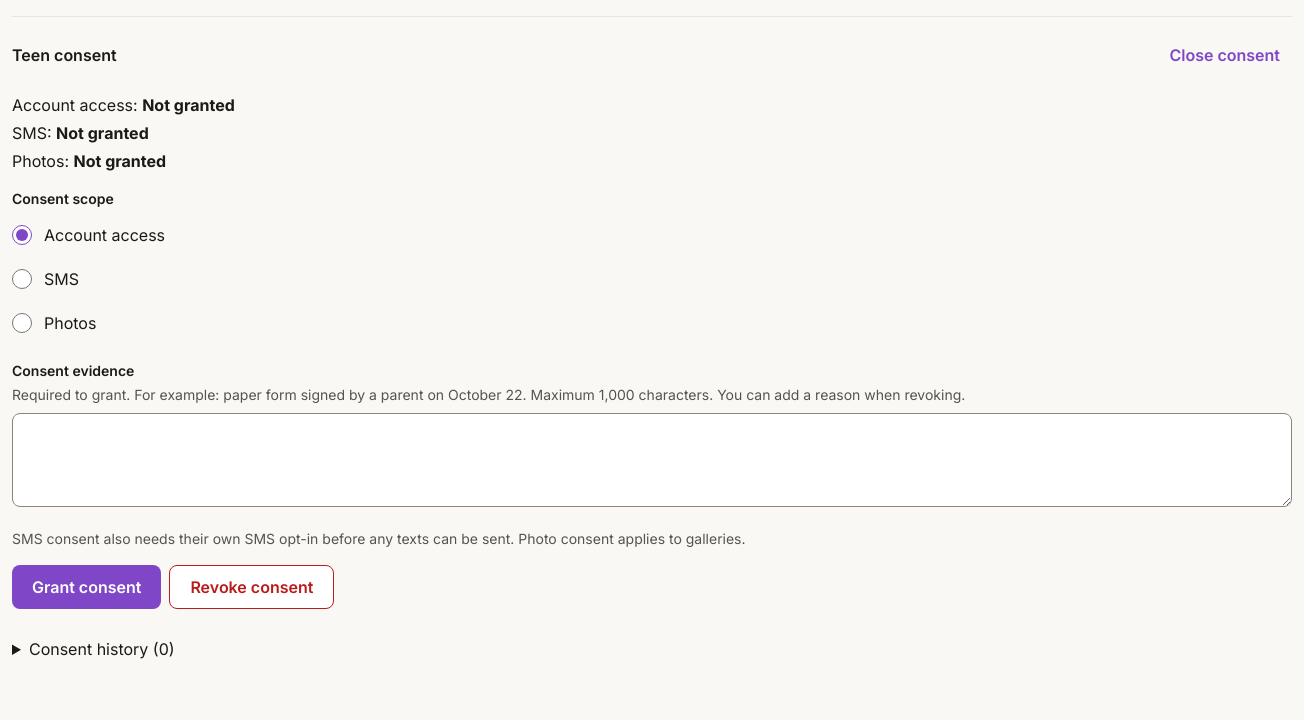
Test: requires and focuses evidence before an admin grant
Click the button "Grant consent" at (87, 587), box [12,565,161,609]
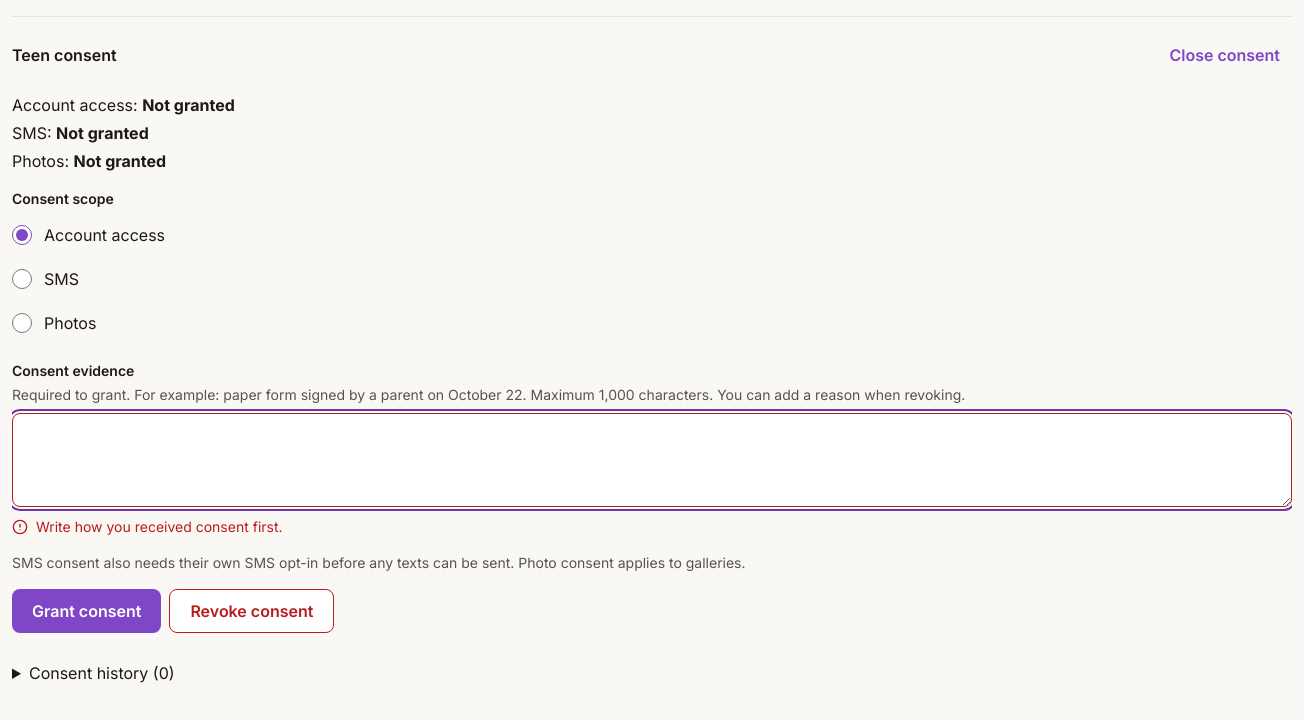
Expected: the text "Write how you received consent first." is shown, [12,518,282,535]
